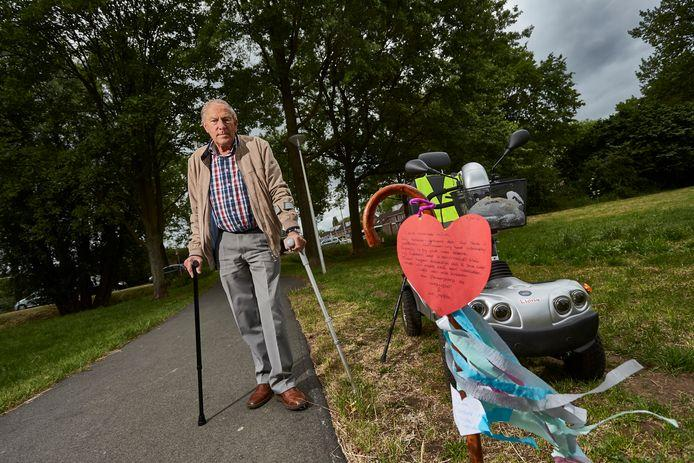crutches: (184, 99, 359, 426)
